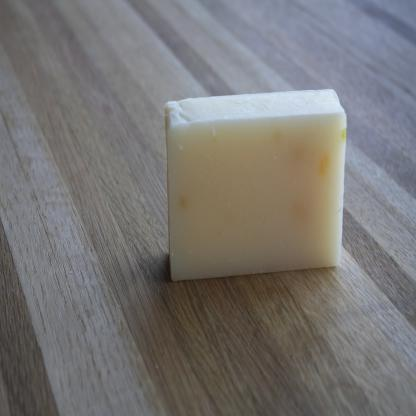soap: (160, 88, 349, 286)
